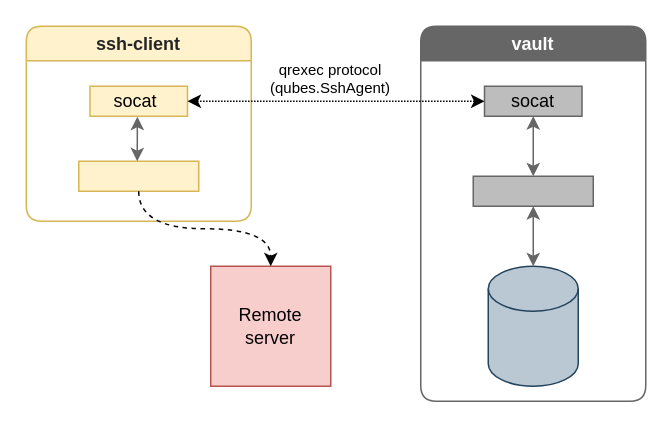
Image size: 672x428. Some labels were removed from this diagram. Each missing label, with the centre of its shape:
"ssh" belongs at point 138,175.
"SSH Keys" belongs at point 532,325.
"ssh-agent" belongs at point 532,190.
